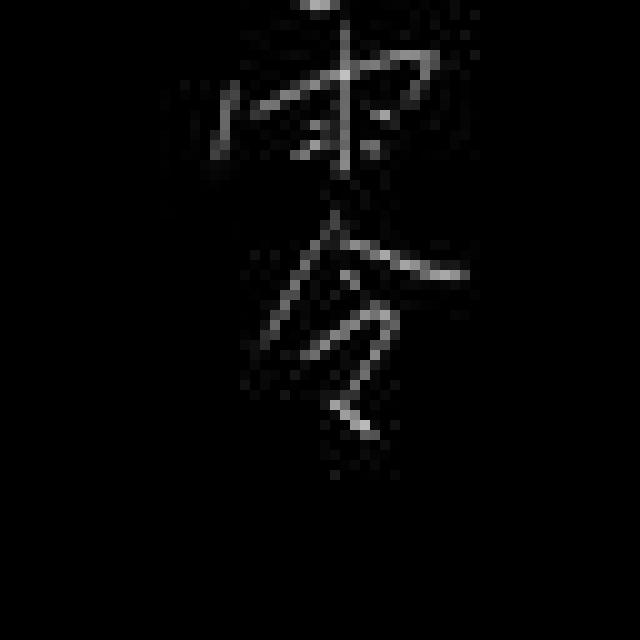0 -zero-: (200, 0, 475, 462)
